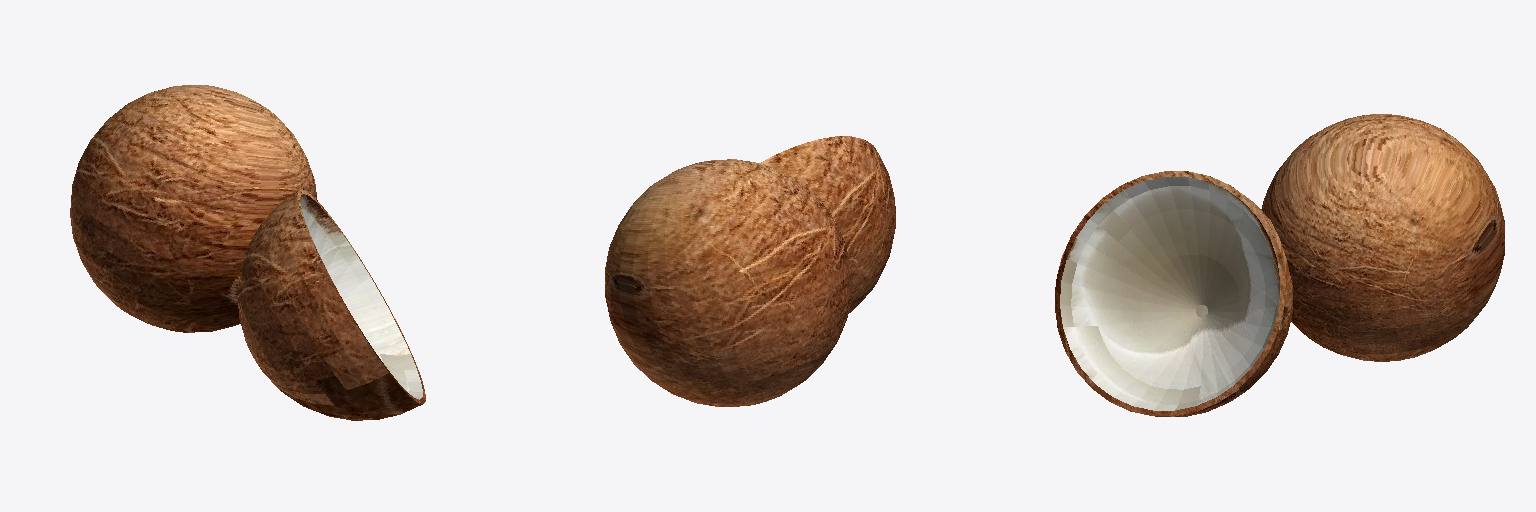
3 renders of one model, left to right at view 1: azimuth 30°, elevation 25°; view 2: azimuth 150°, elevation 25°; view 3: azimuth 270°, elevation 25°, orthographic.
Parts seen in each view (by area): view 1: Sphere; view 2: Sphere; view 3: Sphere.
Boxes of the visible parts, box(x1,y1,x2,y2) form: Sphere: box(70, 85, 425, 420); Sphere: box(605, 136, 895, 406); Sphere: box(1055, 114, 1504, 416).
Bounding box in the file's own units: 4.77 × 4.82 × 7.86.
1 materials, 1 textured.